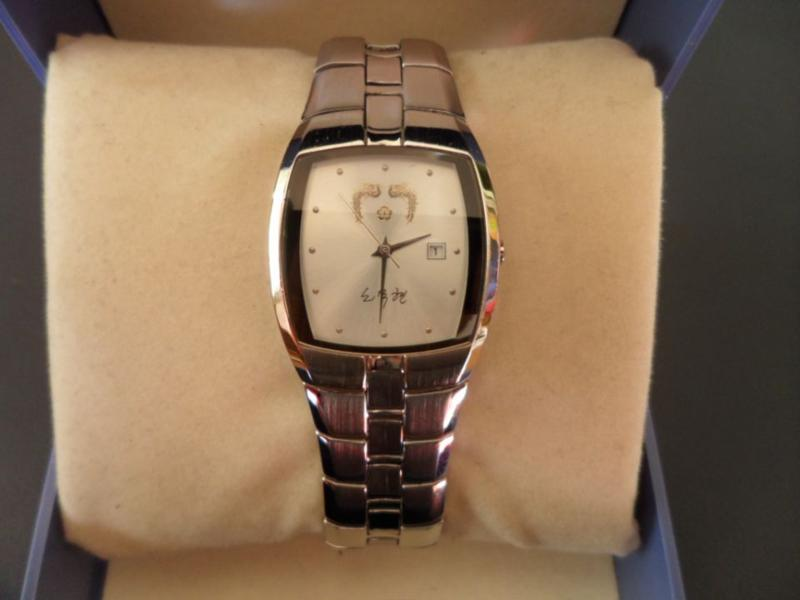watch: (268, 37, 506, 553)
